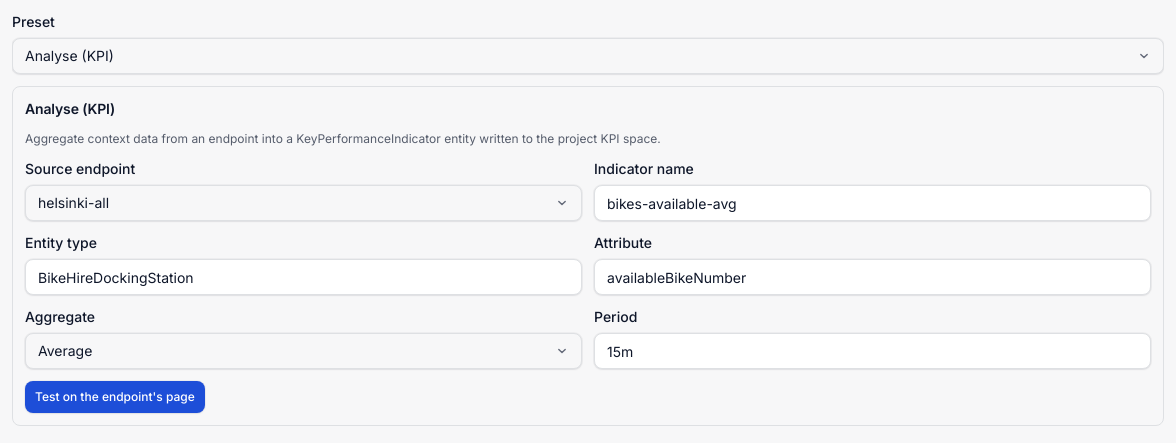
Scenario: PipelineStudio KPI preset › tests the draft's own mapping, so an ok trace opens Propose for what is proposed
Step 1. Click the button with test id "studio-kpi-test" → (115, 397), box [25,381,205,413]
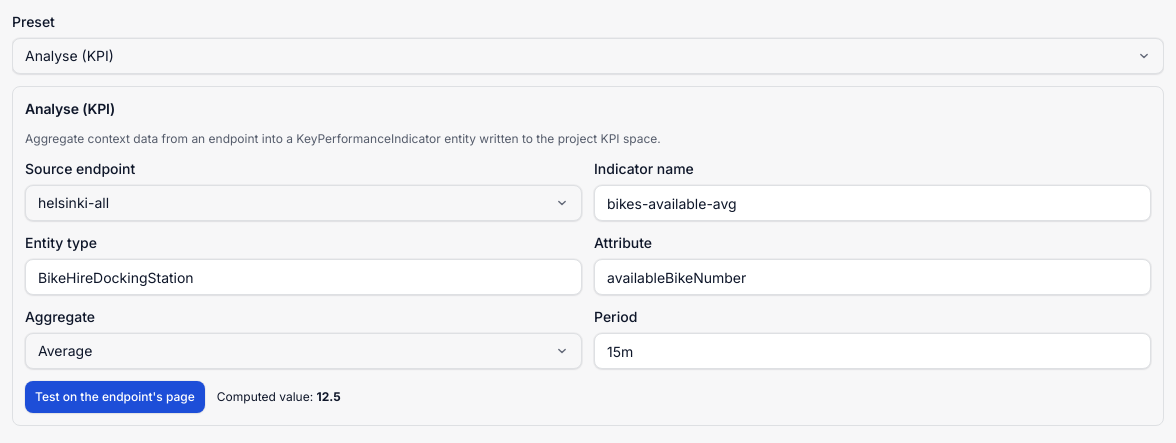
Expected: the text with test id "studio-kpi-value" reads "12.5", [316,389,341,404]
